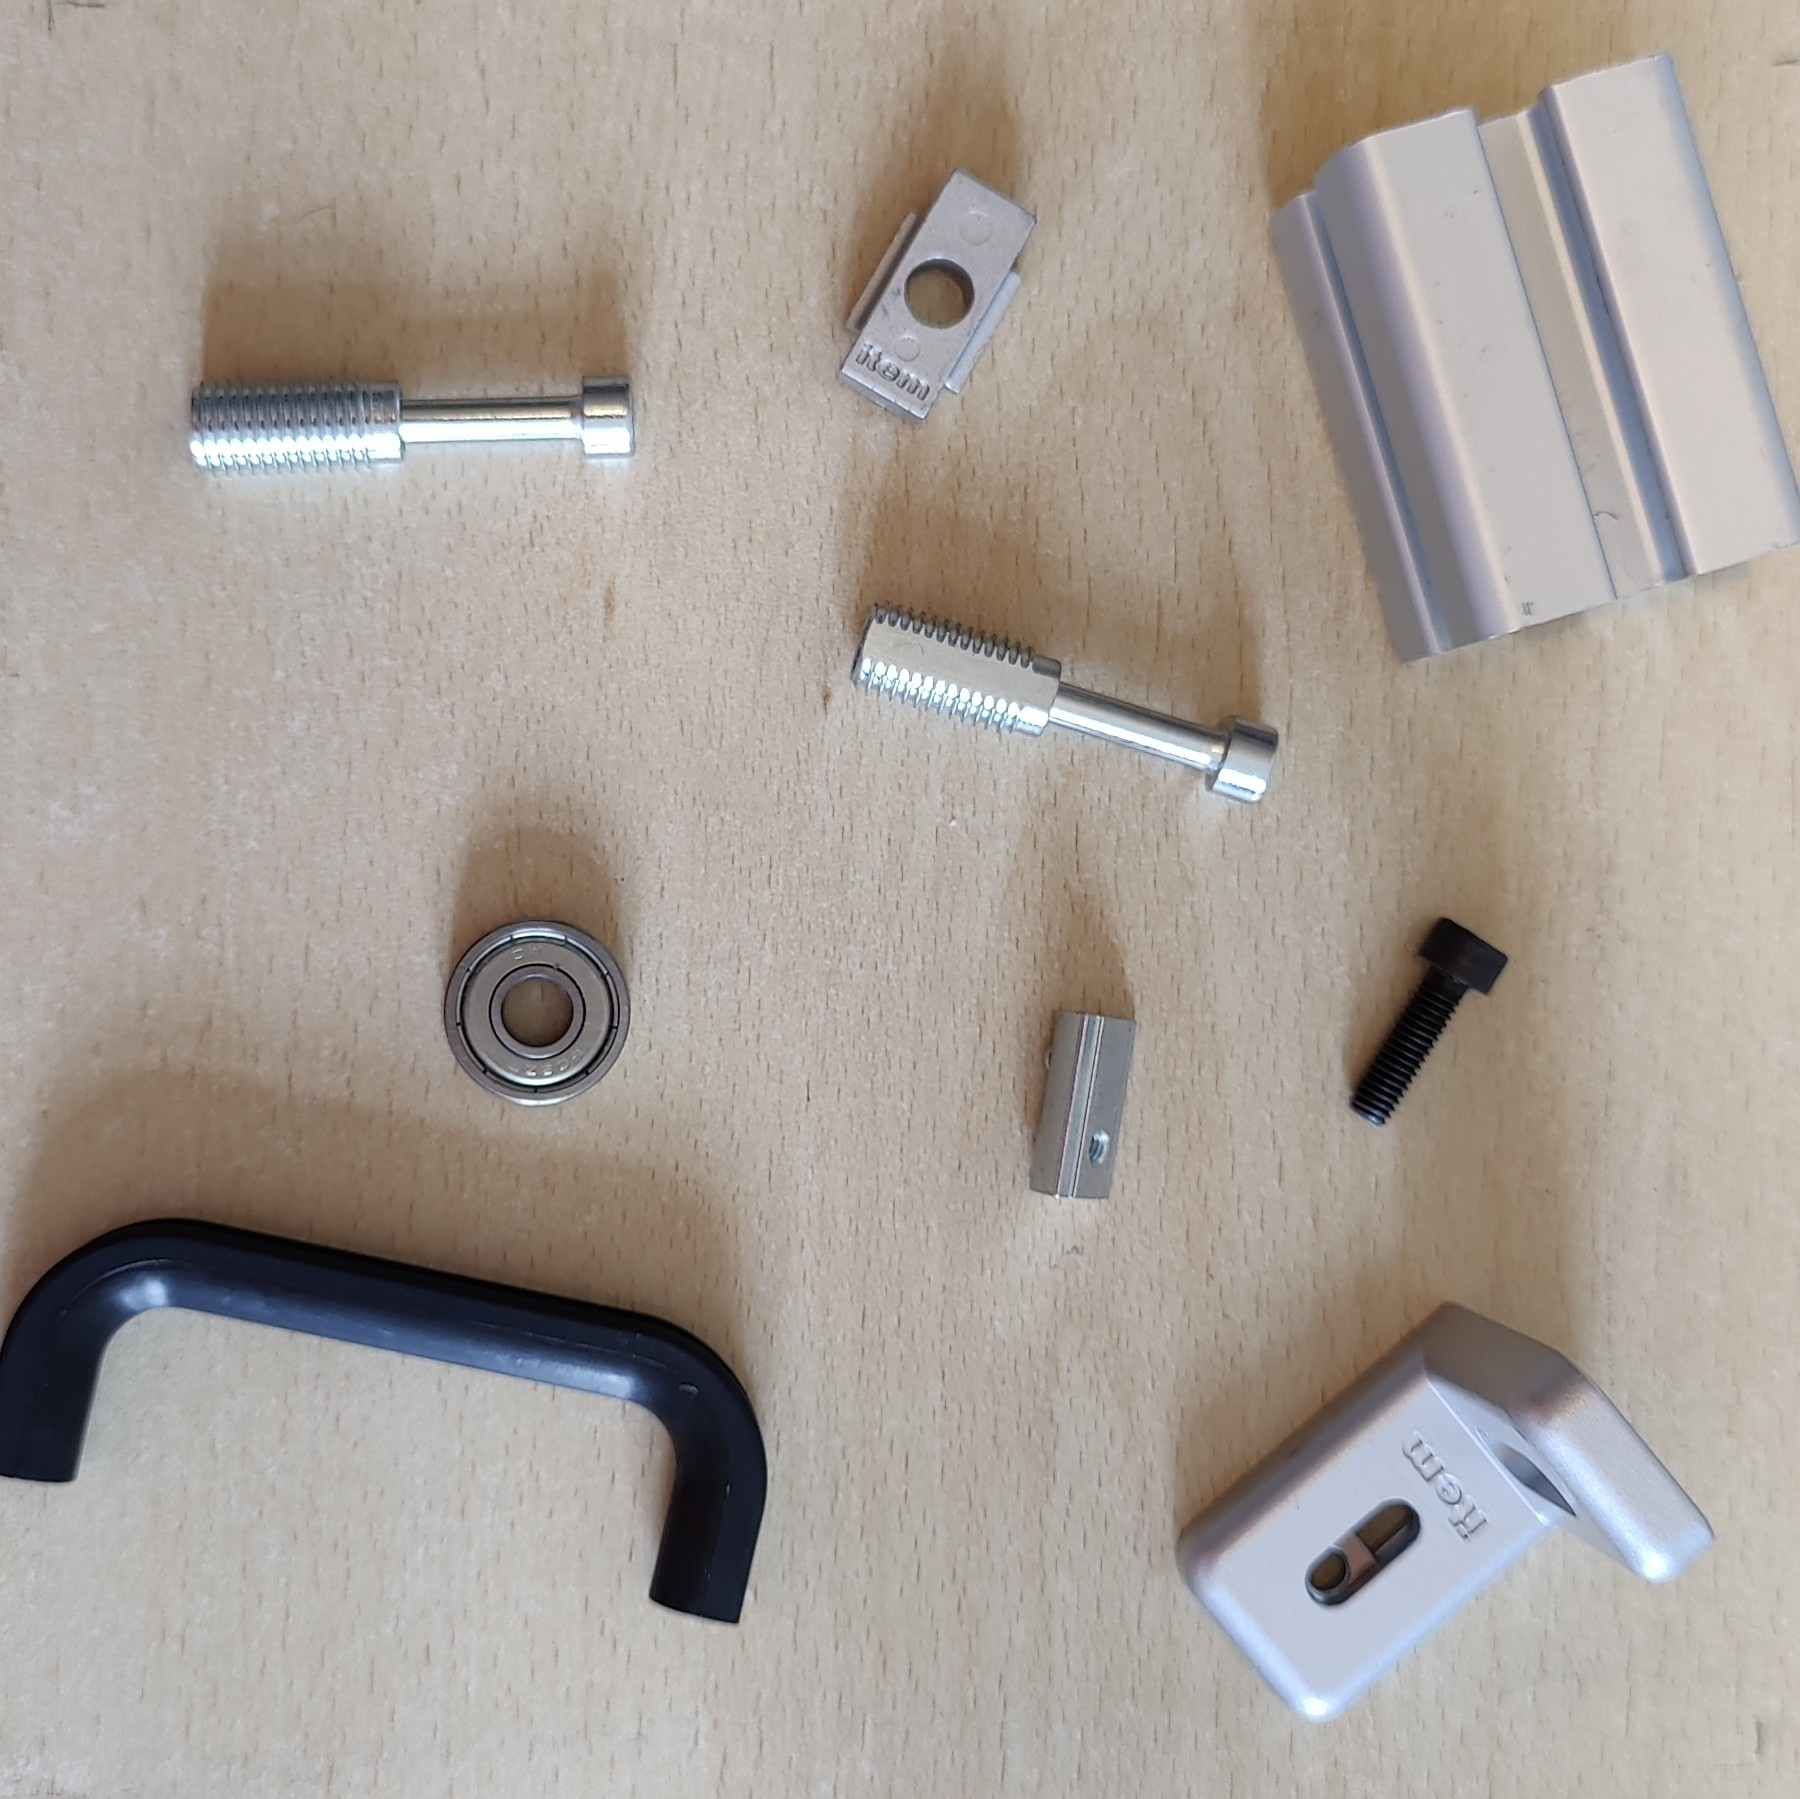Aluminium Extension: (1265, 48, 1800, 669)
Ball Bearing: (440, 914, 632, 1110)
Multiwinkel: (1174, 1293, 1719, 1730)
Pull Handle: (2, 1213, 771, 1629)
Shoulder Socket Head Cap Screw: (848, 591, 1281, 807), (184, 367, 639, 479)
Socket Head Cap Screw: (1347, 914, 1512, 1128)
T Nut Square: (832, 165, 1042, 432)
T Spring Nut: (1028, 1008, 1136, 1204)
